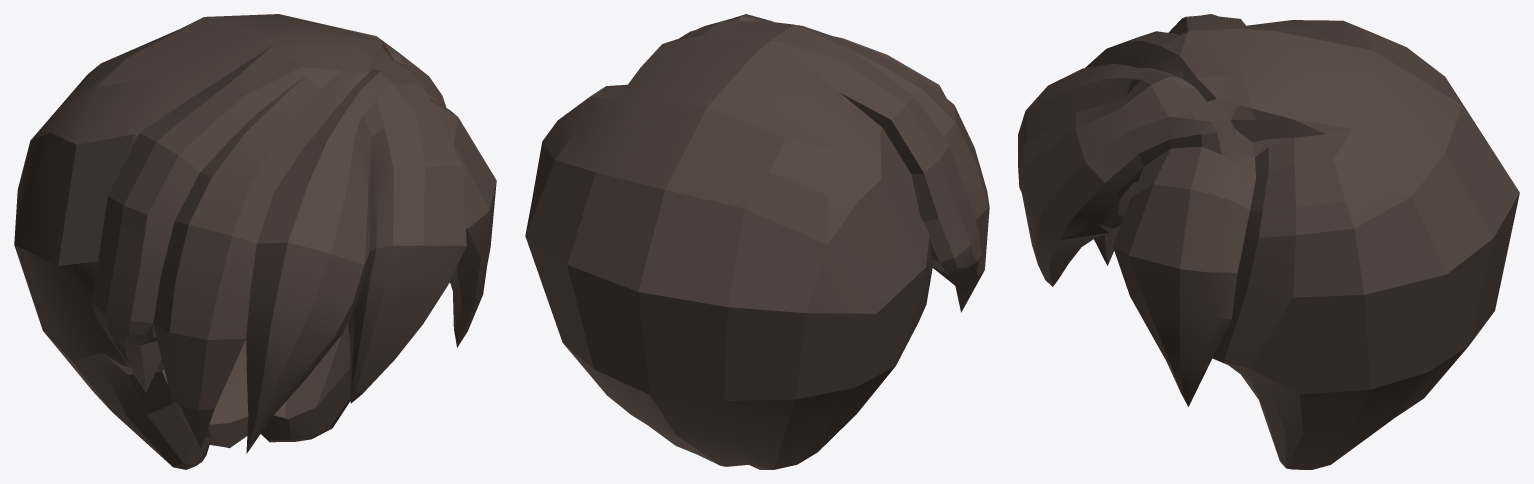
Rendered from hair5.fbx.
3 views of the same model, side by side, from view 1: azimuth 30°, elevation 25°; view 2: azimuth 150°, elevation 25°; view 3: azimuth 270°, elevation 25° (orthographic). The views are drawn at different scales.
Parts seen in each view (by area): view 1: hair5; view 2: hair5; view 3: hair5.
Part boxes in pixels (left/top/right/bottom): hair5: left=14, top=14, right=496, bottom=469; hair5: left=525, top=14, right=989, bottom=469; hair5: left=1018, top=14, right=1519, bottom=469.
Bounding box in the file's own units: 137 × 143 × 156.
